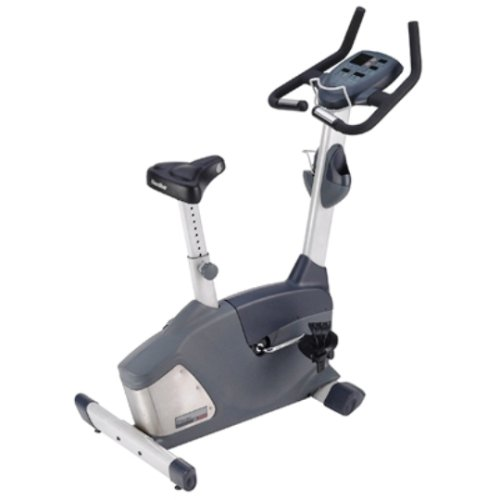gym_bike: (60, 15, 427, 488)
